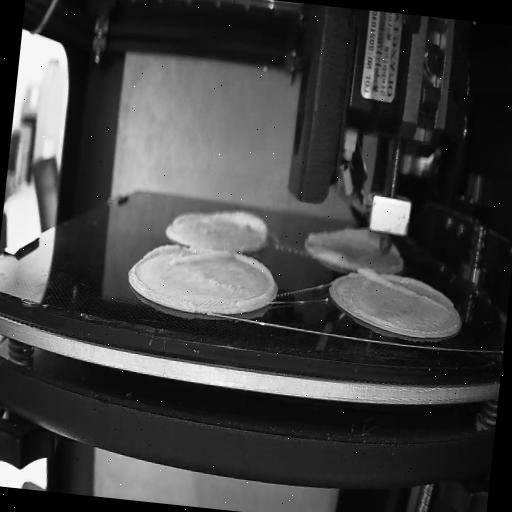over_extrusion: (352, 264, 450, 312), (142, 241, 232, 273), (229, 252, 279, 308), (215, 206, 273, 240), (305, 224, 375, 248), (172, 208, 204, 232)
